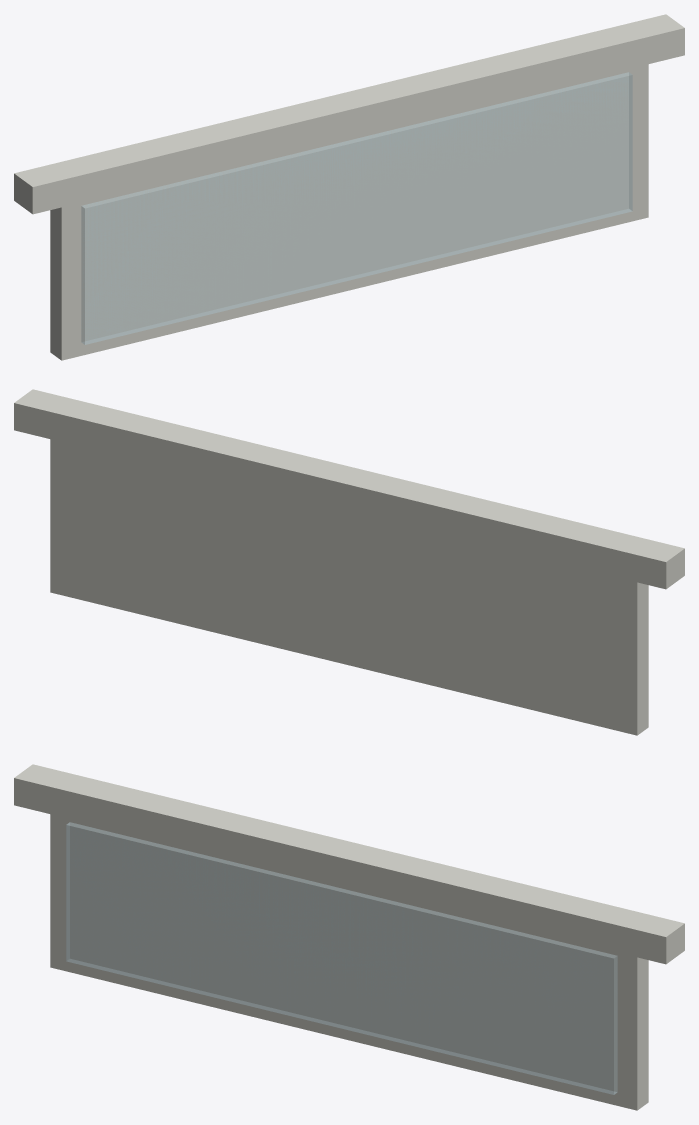
The model's file is Greenhouse_Vent@Run.fbx.
3 renders of one model, top to bottom at view 1: azimuth 30°, elevation 25°; view 2: azimuth 150°, elevation 25°; view 3: azimuth 330°, elevation 25°, orthographic.
Parts seen in each view (by area): view 1: Greenhouse_Vent_Vent, Greenhouse_Vent_Body; view 2: Greenhouse_Vent_Vent, Greenhouse_Vent_Body; view 3: Greenhouse_Vent_Vent, Greenhouse_Vent_Body.
Boxes of the visible parts, box(x1,y1,x2,y2) form: Greenhouse_Vent_Vent: box(50, 64, 648, 360); Greenhouse_Vent_Body: box(14, 14, 684, 214); Greenhouse_Vent_Vent: box(50, 439, 648, 735); Greenhouse_Vent_Body: box(14, 389, 684, 589); Greenhouse_Vent_Vent: box(50, 814, 648, 1110); Greenhouse_Vent_Body: box(14, 764, 684, 964).
Size of the model in its own units: 1 by 0.27 by 0.05.
